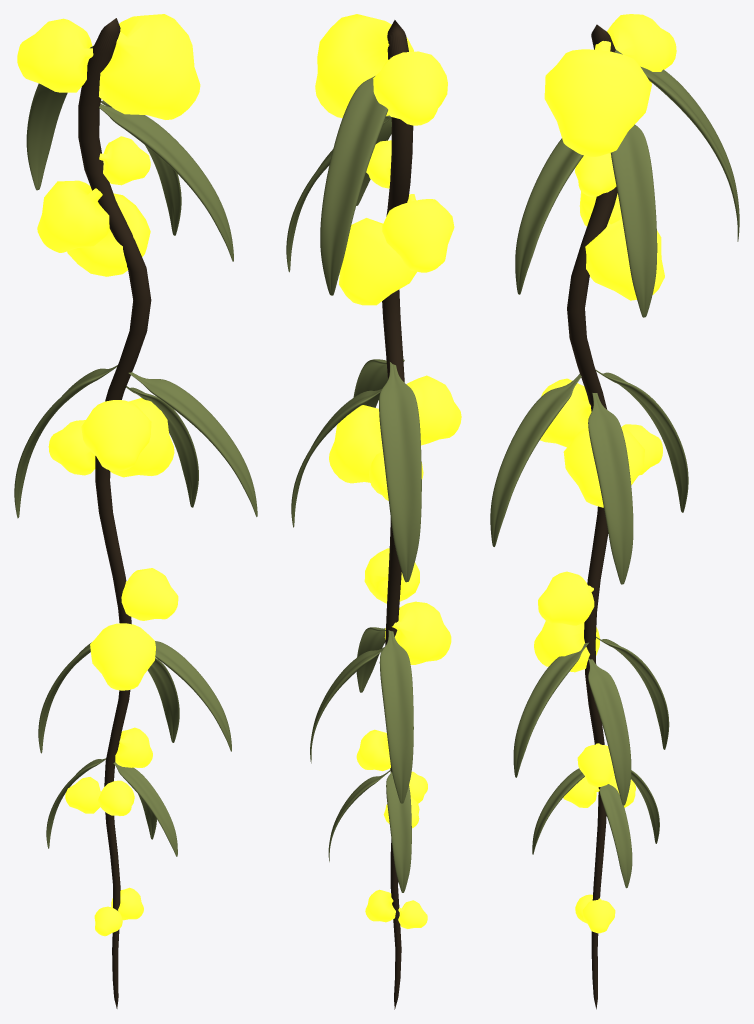
3 renders of one model, left to right at view 1: azimuth 30°, elevation 25°; view 2: azimuth 150°, elevation 25°; view 3: azimuth 270°, elevation 25°, orthographic.
Parts seen in each view (by area): view 1: 柱体, fruit, fruit.006, fruit.001, fruit.008, leaf.002, fruit.010, leaf.003, fruit.002, leaf, fruit.004, fruit.003 (+15 smaller); view 2: leaf, leaf.005, 柱体, fruit, fruit.002, fruit.006, leaf.008, fruit.001, fruit.003, fruit.010, fruit.008, leaf.011 (+14 smaller); view 3: fruit, 柱体, leaf.001, leaf.004, leaf.003, leaf.002, fruit.002, leaf.007, fruit.006, fruit.003, fruit.004, leaf (+14 smaller).
Boxes of the visible parts, box(x1,y1,x2,y2) form: 柱体: box(78, 18, 151, 1008); fruit: box(99, 14, 200, 119); fruit.006: box(17, 18, 93, 92); fruit.001: box(37, 180, 109, 252); fruit.008: box(81, 400, 151, 471); leaf.002: box(99, 103, 233, 261); fruit.010: box(90, 623, 155, 690); leaf.003: box(128, 372, 257, 516); fruit.002: box(67, 193, 150, 276); leaf: box(26, 45, 93, 190); fruit.004: box(121, 568, 178, 620); fruit.003: box(109, 398, 174, 477); leaf: box(320, 57, 391, 295); leaf.005: box(379, 362, 421, 582); 柱体: box(382, 20, 413, 1009); fruit: box(315, 14, 413, 117); fruit.002: box(339, 218, 416, 305); fruit.006: box(373, 51, 447, 125); leaf.008: box(379, 630, 413, 803); fruit.001: box(382, 194, 454, 272); fruit.003: box(329, 405, 382, 483); fruit.010: box(384, 601, 451, 664); fruit.008: box(406, 375, 461, 445); leaf.011: box(386, 771, 411, 892); fruit: box(544, 41, 651, 156); 柱体: box(567, 24, 617, 1009); leaf.001: box(611, 124, 657, 317); leaf.004: box(588, 393, 633, 584); leaf.003: box(490, 374, 581, 546); leaf.002: box(515, 138, 583, 294); fruit.002: box(585, 219, 664, 300); leaf.007: box(588, 658, 631, 805); fruit.006: box(607, 14, 676, 83); fruit.003: box(563, 428, 644, 507); fruit.004: box(538, 571, 594, 625); leaf: box(615, 49, 739, 241).
Bounding box in the file's own units: 78.63 × 464 × 106.
